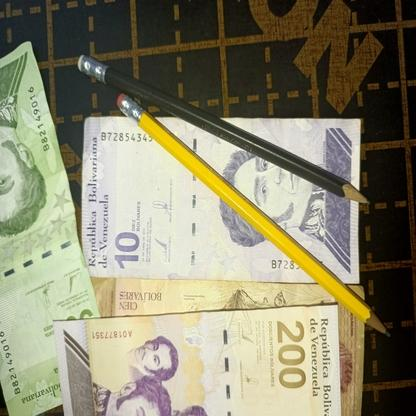fifty-front-vef: (0, 40, 101, 416)
ten-front-vef: (80, 116, 360, 284)
two_hundred-front-vef: (51, 303, 342, 416)
